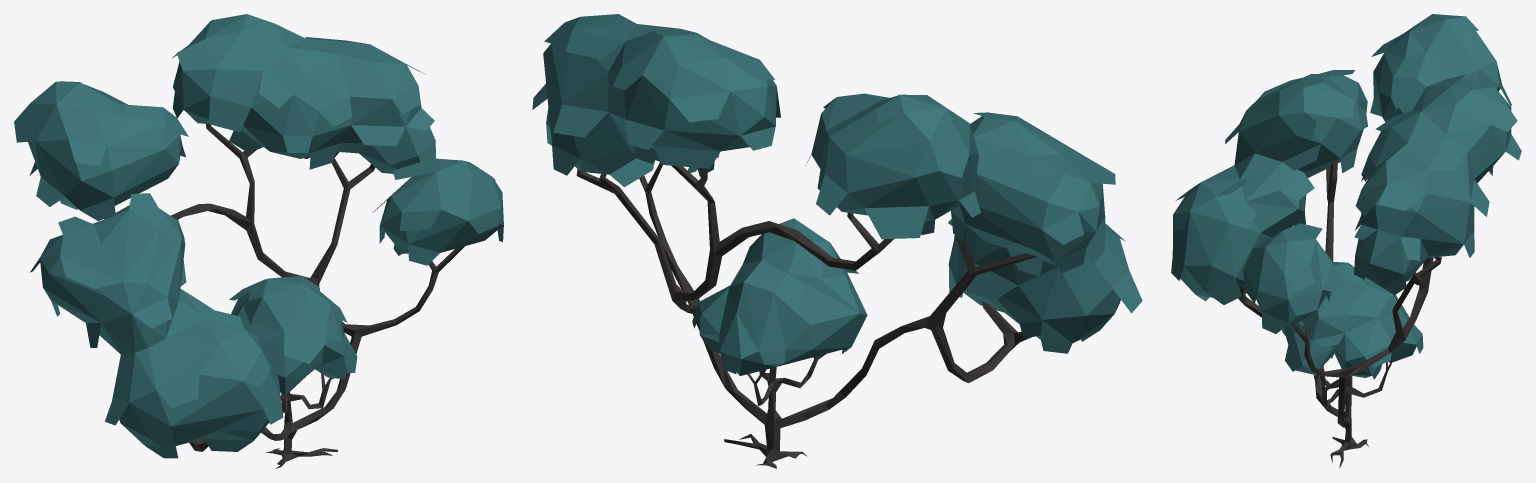
Rendered from Tree_Forest_Turquoise_03.glb.
3 renders of one model, left to right at view 1: azimuth 30°, elevation 25°; view 2: azimuth 150°, elevation 25°; view 3: azimuth 270°, elevation 25°, orthographic. The views are drawn at different scales.
Visible parts, largest first — view 1: Tree_Forest_Turquoise_03; view 2: Tree_Forest_Turquoise_03; view 3: Tree_Forest_Turquoise_03.
Part boxes in pixels (left/top/right/bottom): Tree_Forest_Turquoise_03: left=14, top=14, right=503, bottom=468; Tree_Forest_Turquoise_03: left=532, top=14, right=1142, bottom=468; Tree_Forest_Turquoise_03: left=1171, top=14, right=1521, bottom=468.
Size of what is drawn, in the model's own units: 14.35 by 12.19 by 10.48.
Materials: 1 (1 with a texture image).
